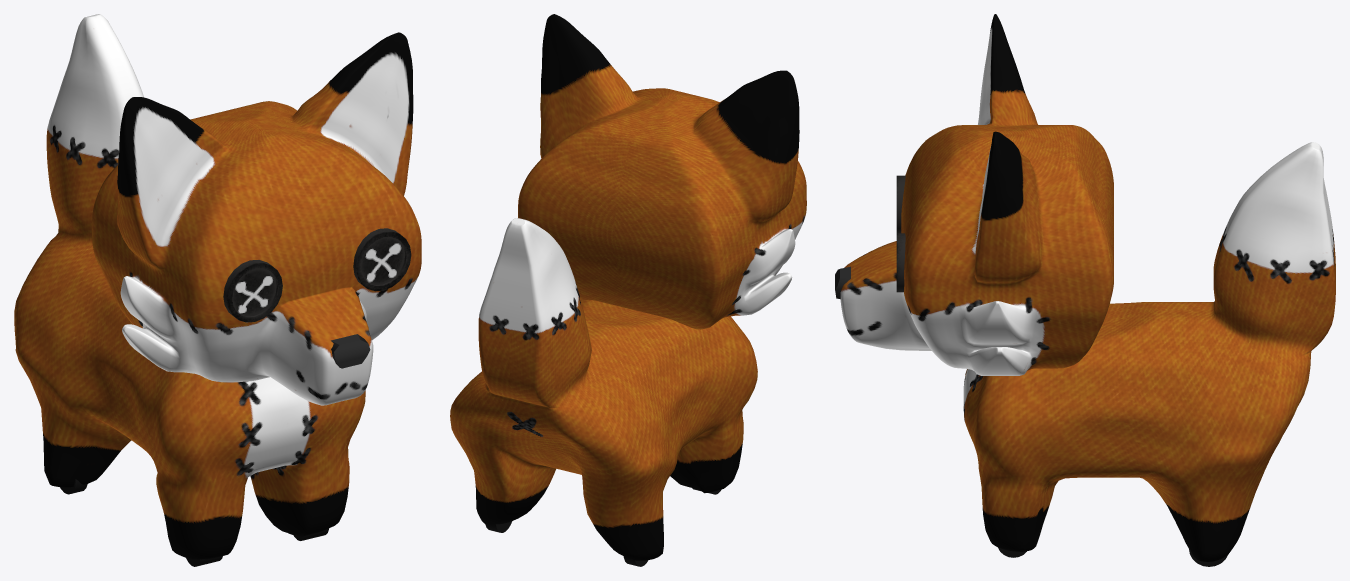
File: Stitches_Lab1.fbx
The picture shows the model from 3 angles, left to right: view 1: azimuth 30°, elevation 25°; view 2: azimuth 150°, elevation 25°; view 3: azimuth 270°, elevation 25°; orthographic projection. The views are drawn at different scales.
Parts seen in each view (by area): view 1: head, body, eyes, nose; view 2: body, head; view 3: body, head, eyes.
Part boxes in pixels (box(x1,y1,x2,y2)): head: box(91, 32, 421, 405); body: box(14, 14, 365, 559); eyes: box(223, 228, 411, 322); nose: box(331, 334, 370, 368); body: box(450, 218, 757, 560); head: box(518, 14, 806, 329); body: box(963, 142, 1335, 561); head: box(840, 14, 1113, 375); eyes: box(896, 175, 905, 292).
Bounding box in the file's own units: 16.33 × 26.61 × 26.56.
2 materials, 2 textured.
